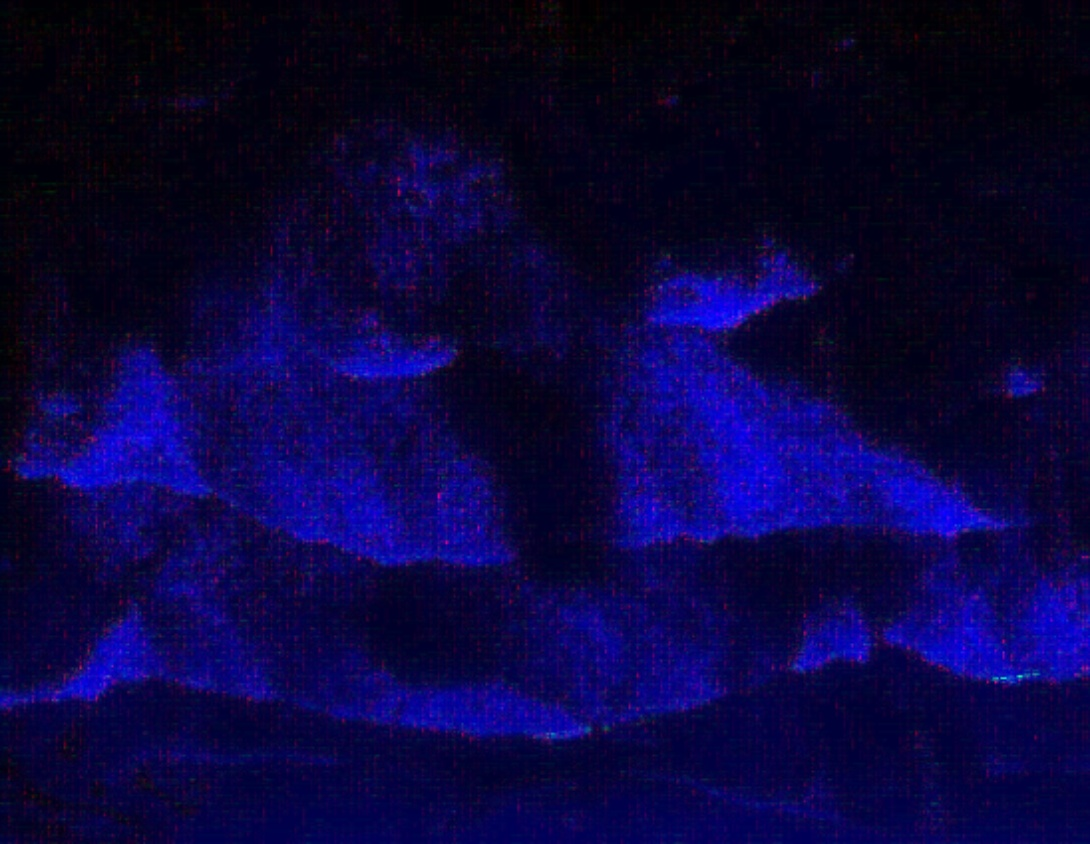rip_current: (372, 176, 694, 633)
